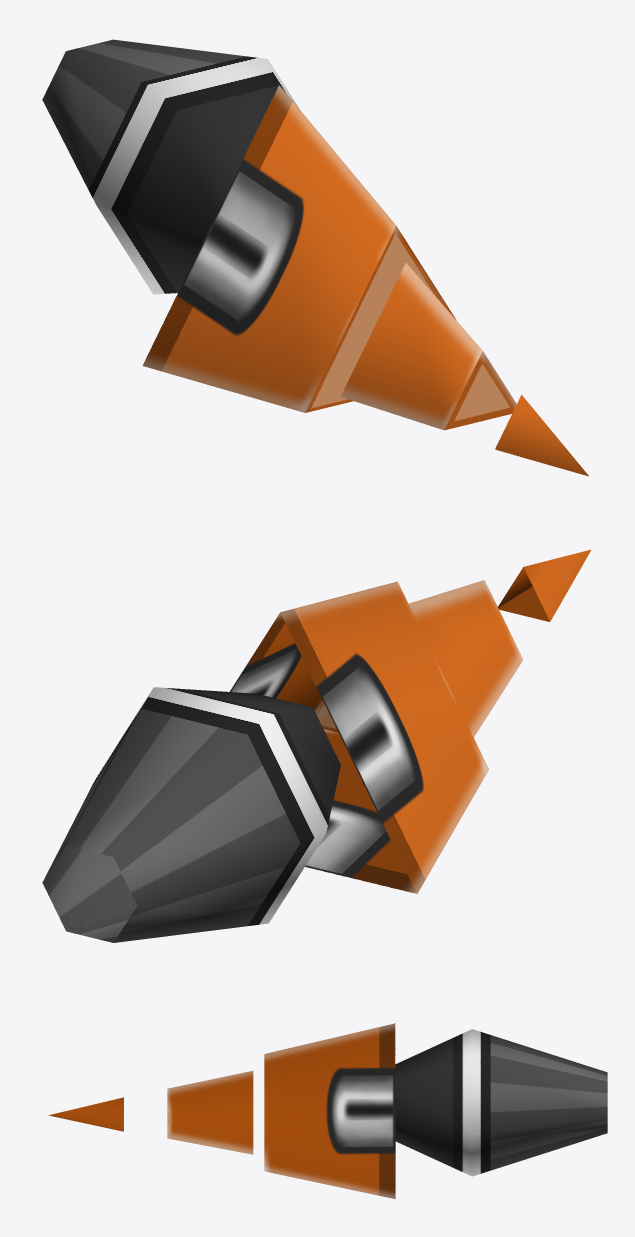
File: Dart.FBX
3 renders of one model, top to bottom at view 1: azimuth 30°, elevation 25°; view 2: azimuth 150°, elevation 25°; view 3: azimuth 270°, elevation 25°, orthographic. The views are drawn at different scales.
Parts seen in each view (by area): view 1: Dart; view 2: Dart; view 3: Dart.
Boxes of the visible parts, bbox=[...] form: Dart: bbox=[42, 39, 588, 476]; Dart: bbox=[42, 549, 590, 942]; Dart: bbox=[48, 1023, 607, 1199].
Size of the model in its own units: 10.08 by 9.03 by 27.03.
1 material, 1 textured.
